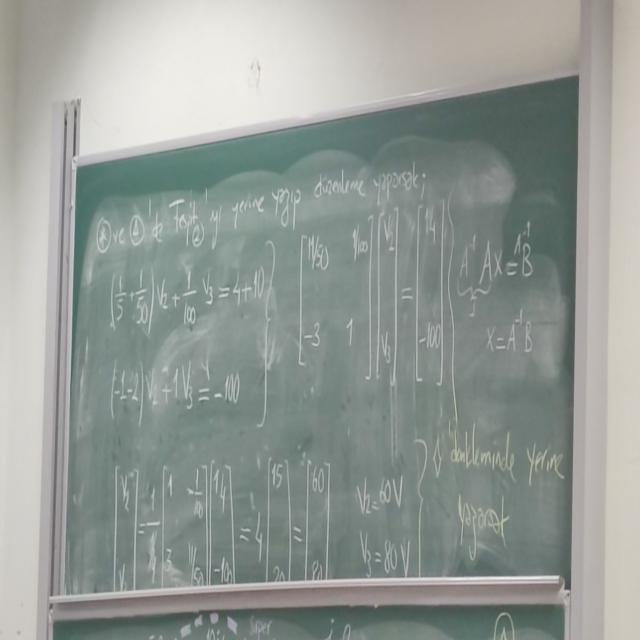math: (107, 432, 339, 605), (95, 240, 276, 439), (290, 198, 448, 397), (450, 205, 546, 370), (352, 451, 423, 582)
text: (91, 147, 432, 276), (436, 417, 565, 562)
